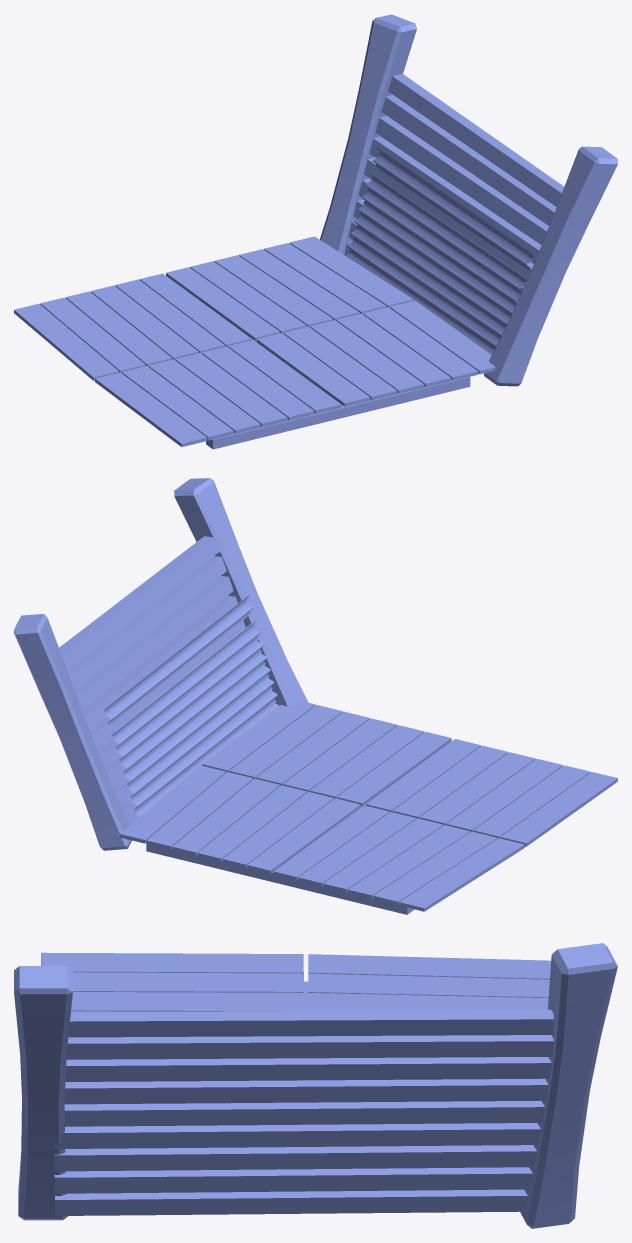
The model's file is TrenchWideOneSide.fbx.
The picture shows the model from 3 angles, top to bottom: view 1: azimuth 30°, elevation 25°; view 2: azimuth 150°, elevation 25°; view 3: azimuth 270°, elevation 25°; orthographic projection. The views are drawn at different scales.
Parts seen in each view (by area): view 1: TrenchWide.002; view 2: TrenchWide.002; view 3: TrenchWide.002.
Boxes of the visible parts, left/top/right/bottom form: TrenchWide.002: left=14, top=14, right=617, bottom=449; TrenchWide.002: left=14, top=478, right=617, bottom=914; TrenchWide.002: left=14, top=943, right=617, bottom=1228.
Size of the model in its own units: 458 by 220 by 376.
